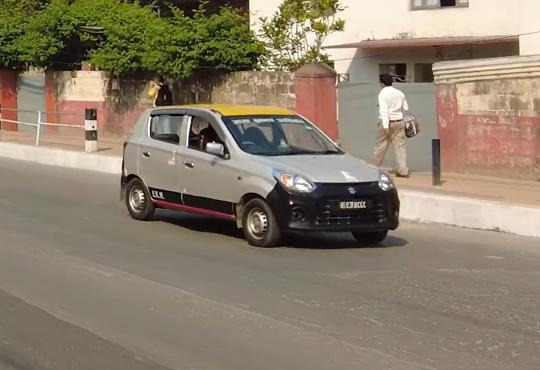taxi: (119, 97, 401, 251)
